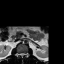CCS_normal: (21, 51, 23, 59)
LFS_normal: (25, 51, 26, 57)
LLS_normal: (23, 51, 25, 57)
RFS_normal: (17, 51, 19, 56)
RLS_normal: (19, 51, 21, 57)
